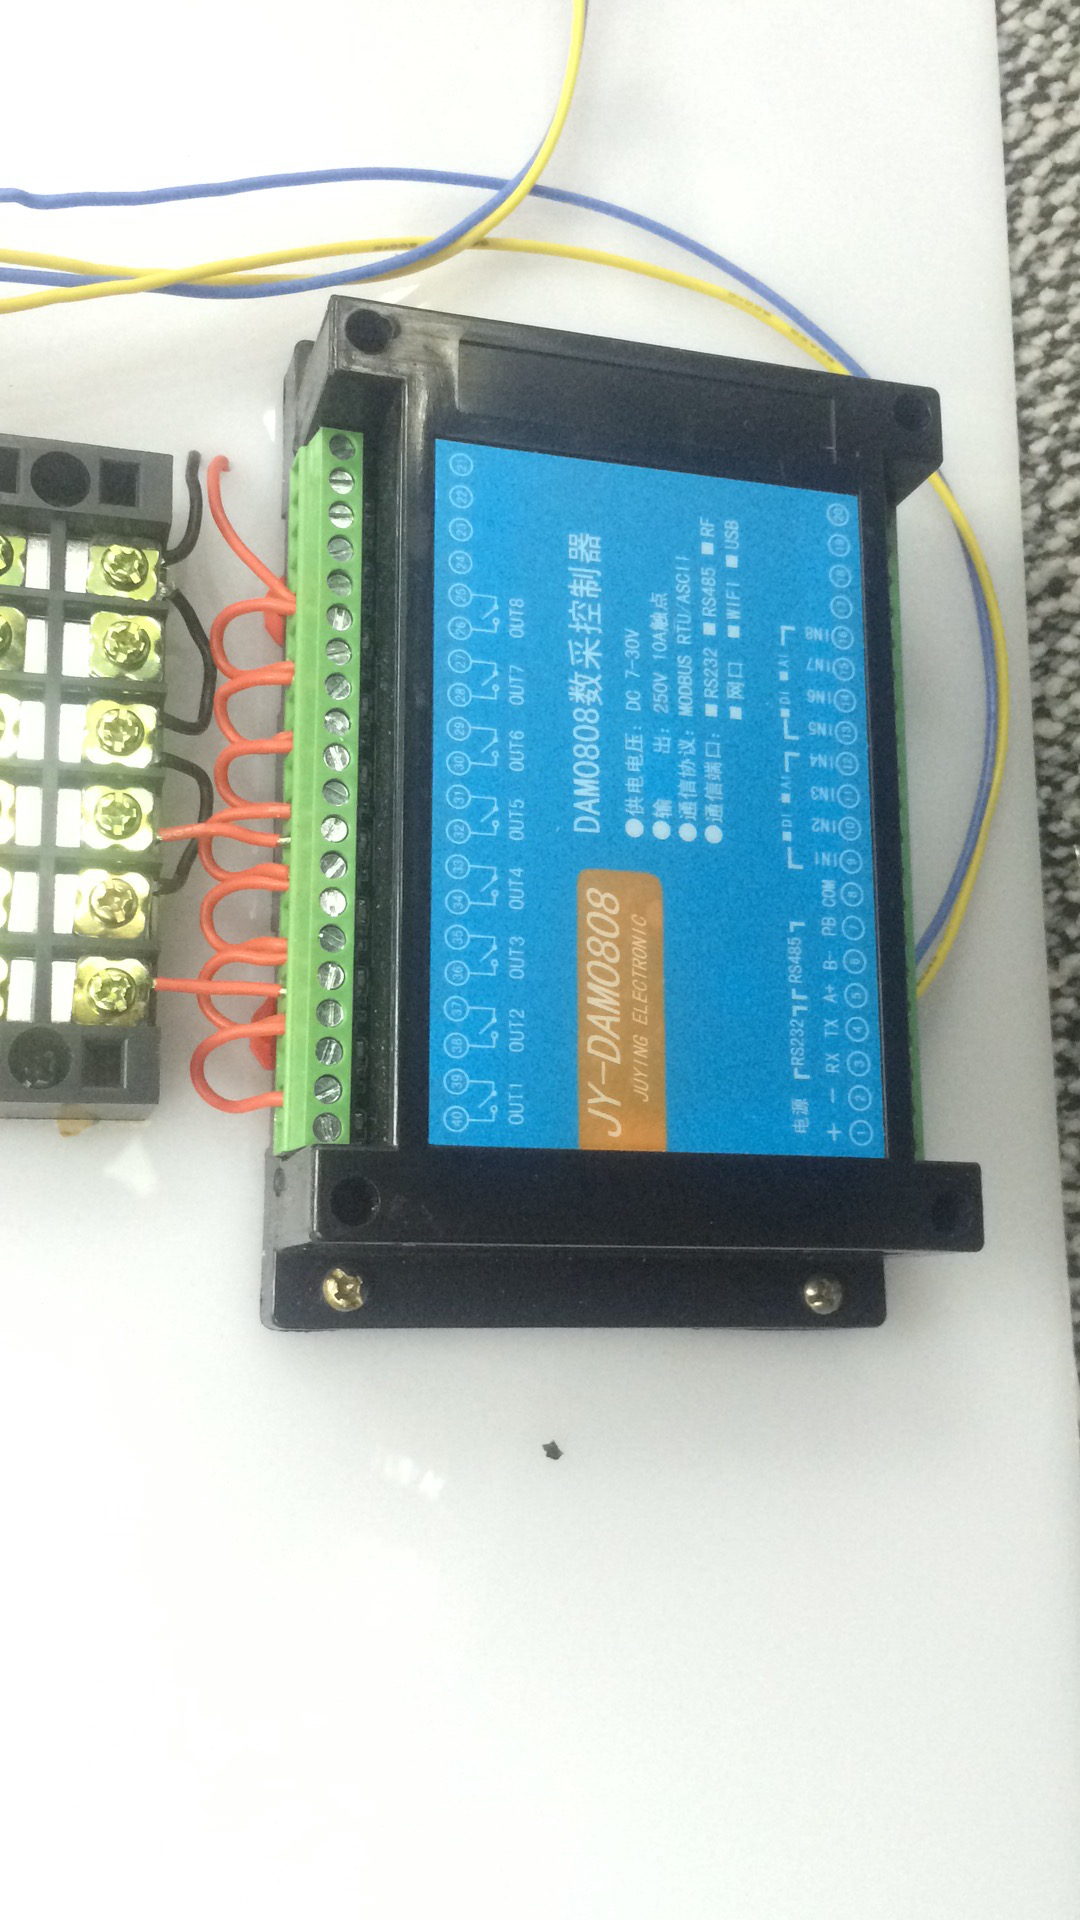relay: (237, 298, 989, 1371)
